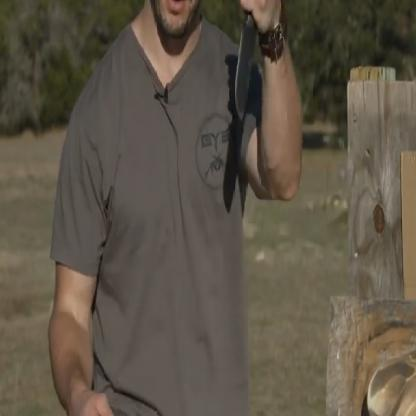knife: (226, 0, 278, 132)
